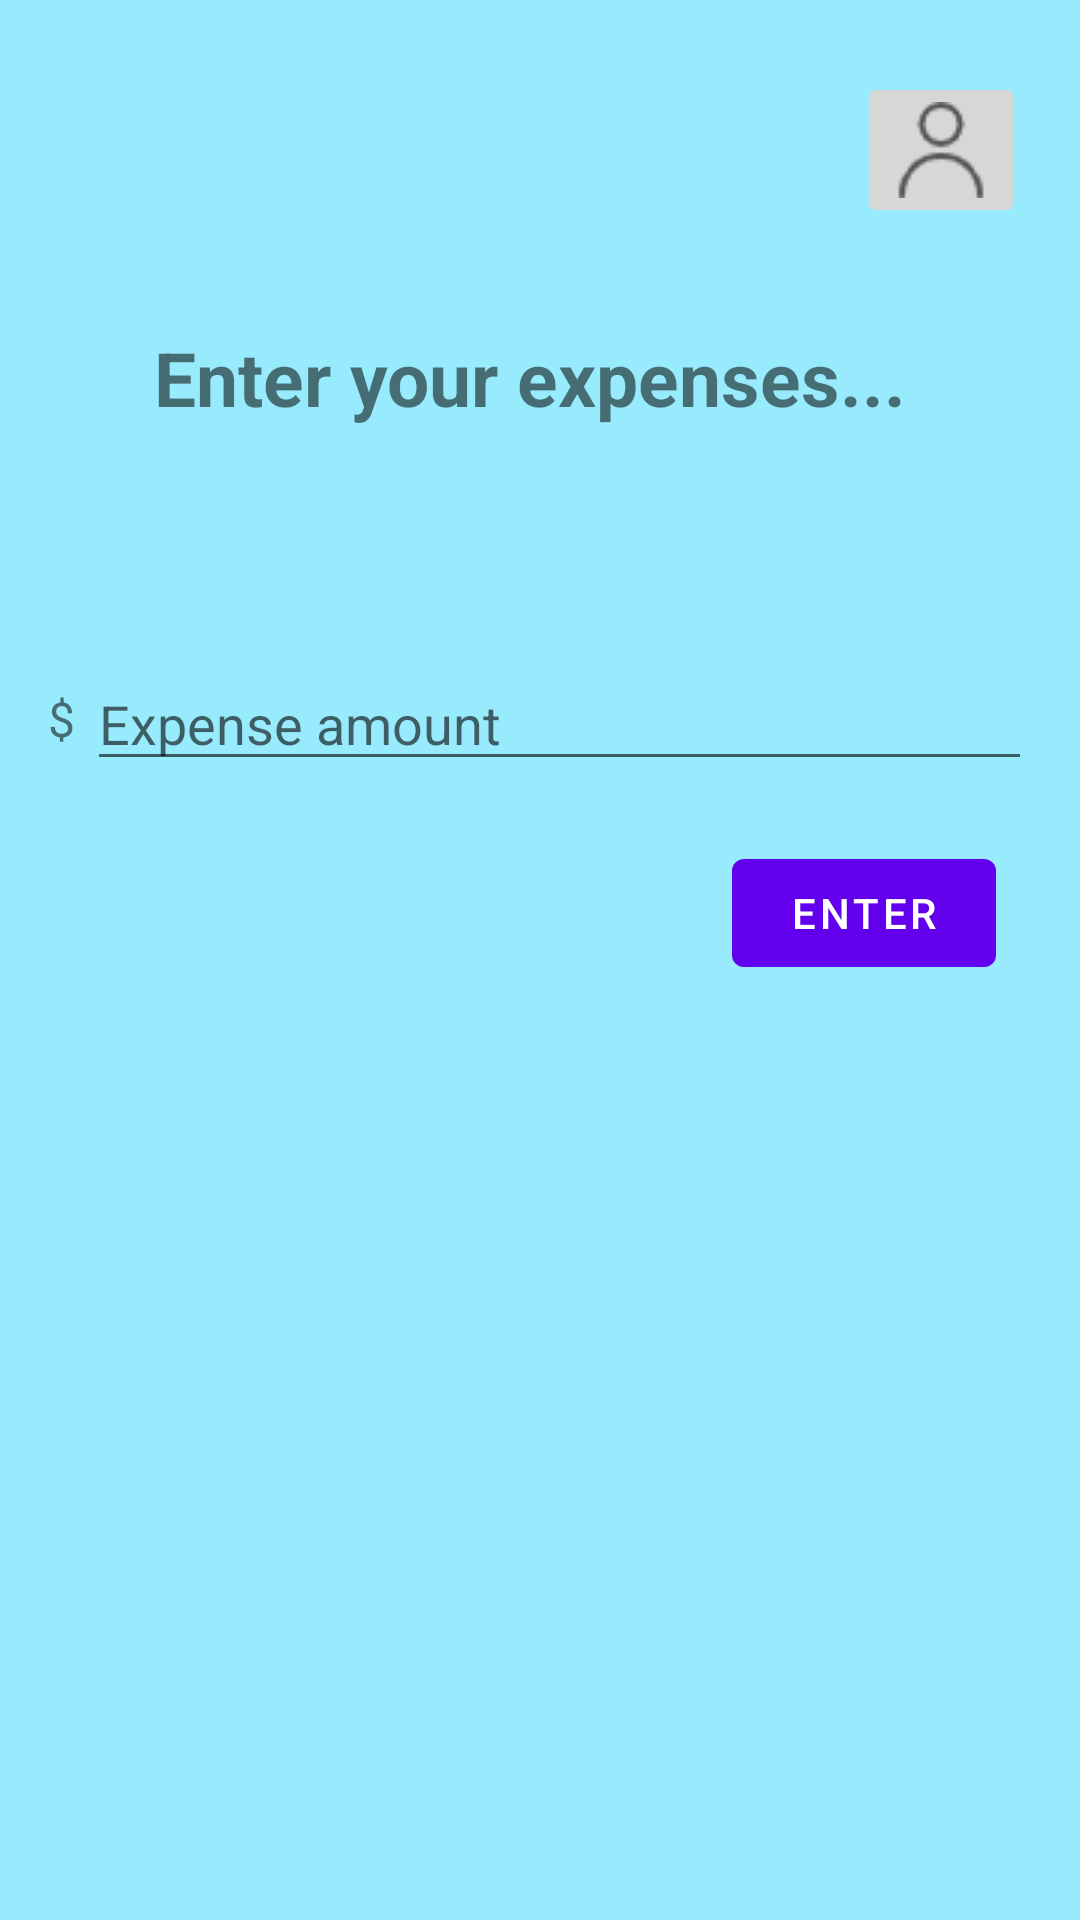

Icon bounding boxes for this 1080x1920 phone screenshot, format rect(x1, y1, x2, y2):
person: rect(869, 90, 1013, 210)
